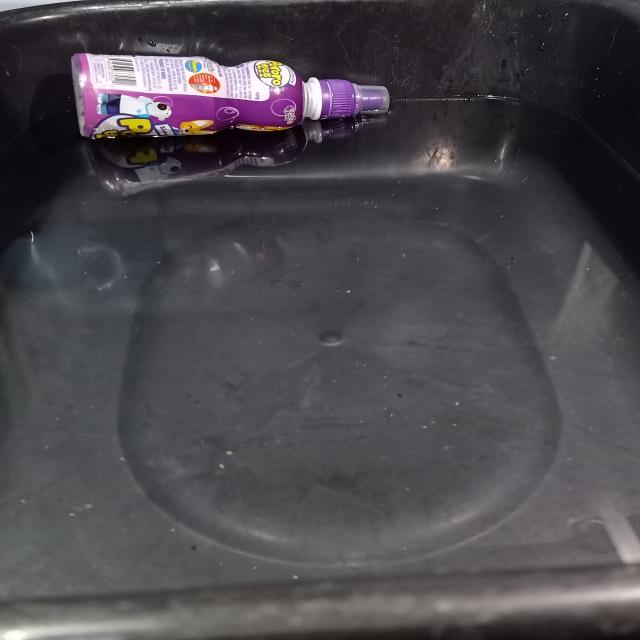Plastic Bottle: (71, 53, 389, 138)
